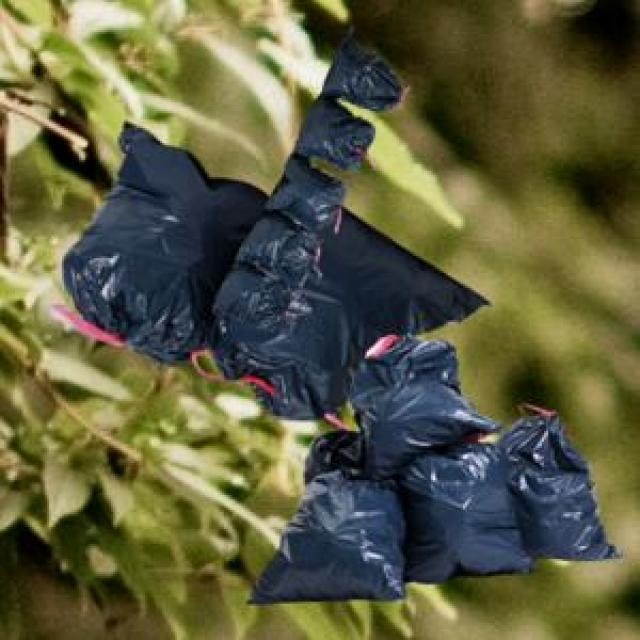Trashbag: (86, 152, 226, 365), (343, 346, 478, 456), (408, 457, 522, 581), (518, 410, 612, 560), (292, 463, 396, 594), (308, 37, 416, 99), (207, 275, 320, 334), (268, 154, 354, 218), (285, 101, 377, 154), (245, 215, 320, 267)
